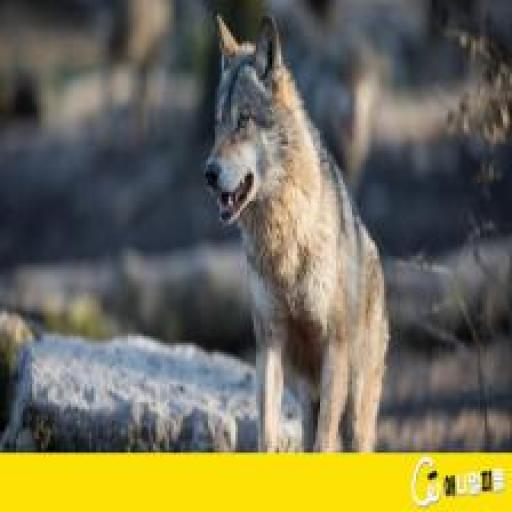wolf: (190, 2, 402, 456)
